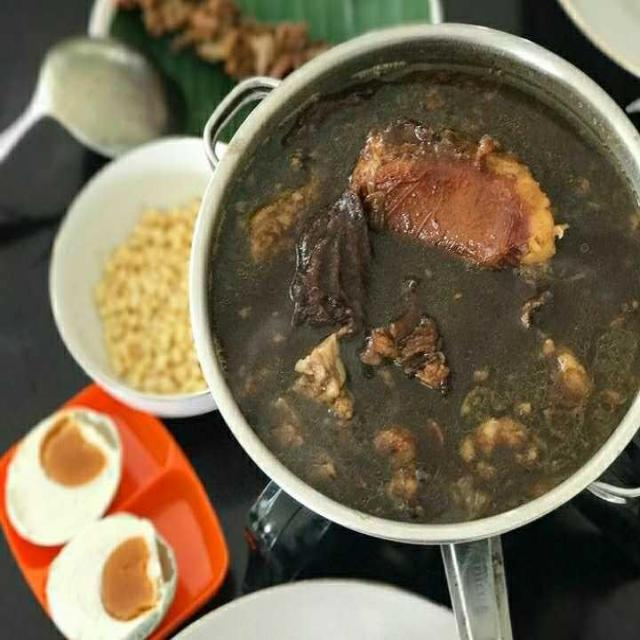Rawon: (212, 77, 632, 503)
